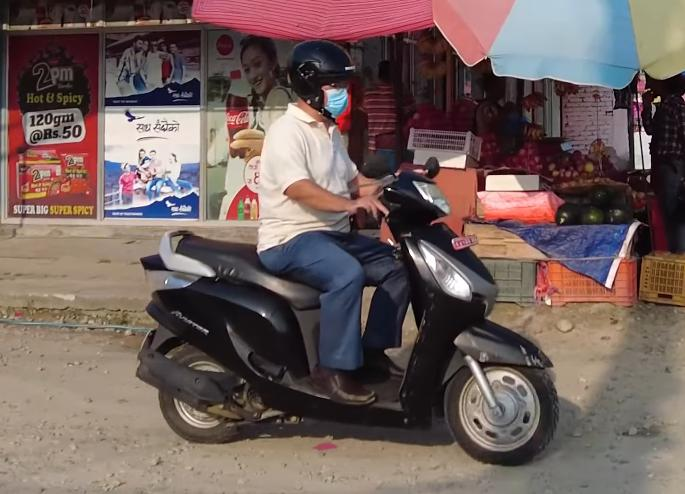scooter: (122, 152, 563, 466)
